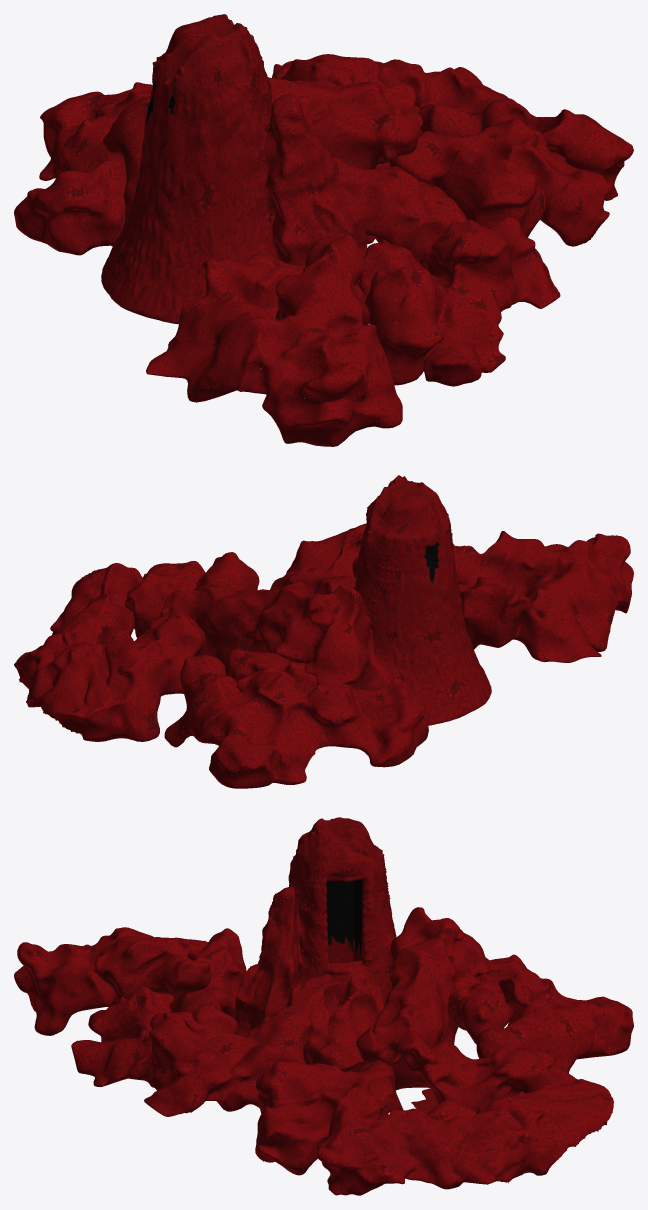
Rendered from oeuvre-02-source.glb.
The picture shows the model from 3 angles, top to bottom: view 1: azimuth 30°, elevation 25°; view 2: azimuth 150°, elevation 25°; view 3: azimuth 270°, elevation 25°; orthographic projection. The views are drawn at different scales.
Visible parts, largest first — view 1: Ha Makom — étude 3D; view 2: Ha Makom — étude 3D; view 3: Ha Makom — étude 3D.
Boxes of the visible parts, x1,y1,x2,y2 form: Ha Makom — étude 3D: (14, 14, 633, 446); Ha Makom — étude 3D: (14, 475, 633, 788); Ha Makom — étude 3D: (14, 817, 633, 1195).
Size of the model in its own units: 6.24 by 2.83 by 7.3.
Materials: 1 (1 with a texture image).
